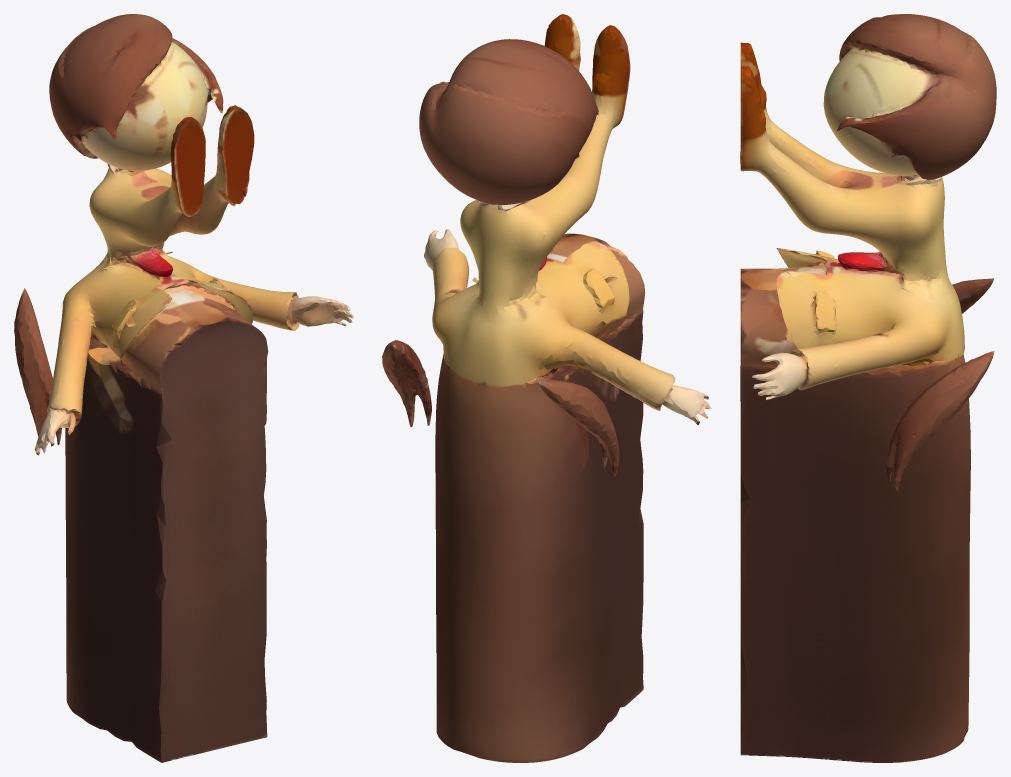
The model's file is enemy-ol.glb.
3 renders of one model, left to right at view 1: azimuth 30°, elevation 25°; view 2: azimuth 150°, elevation 25°; view 3: azimuth 270°, elevation 25°, orthographic. The views are drawn at different scales.
Visible parts, largest first — view 1: ChibiOL; view 2: ChibiOL; view 3: ChibiOL.
Part boxes in pixels (x1=…): ChibiOL: x1=14, y1=14, x2=353, y2=762; ChibiOL: x1=382, y1=14, x2=711, y2=762; ChibiOL: x1=740, y1=14, x2=996, y2=762.
Bounding box in the file's own units: 0.6334 × 1.38 × 0.4534.
Materials: 1 (1 with a texture image).
